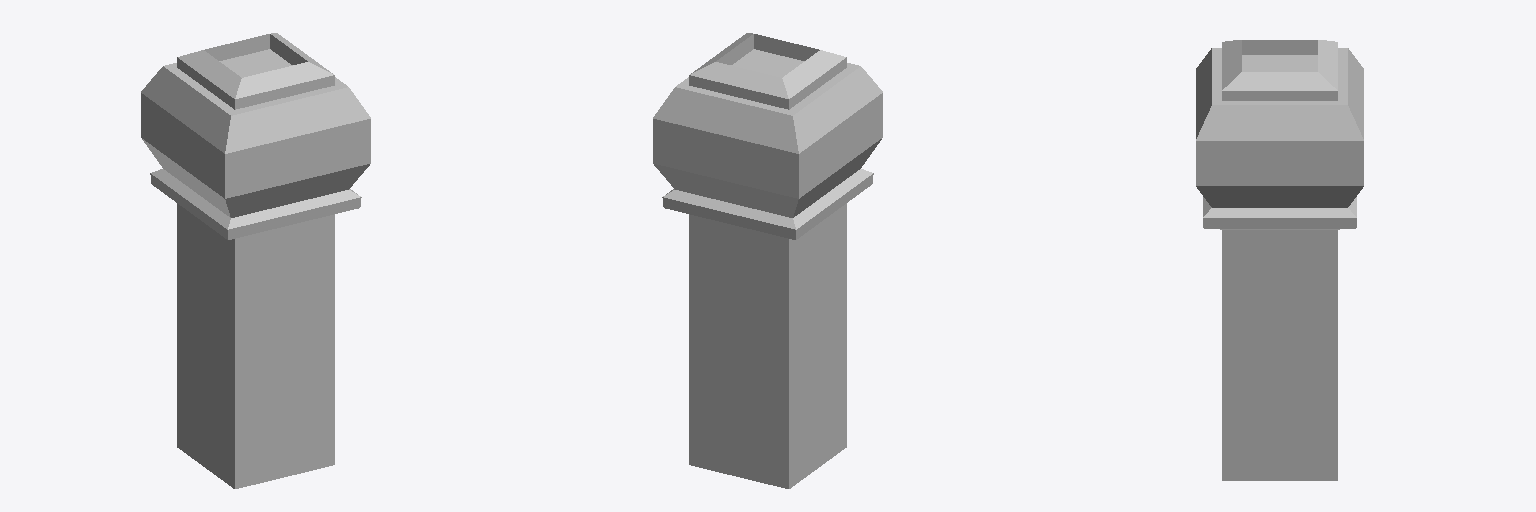
Rendered from Light Holder Shit.obj.
3 views of the same model, side by side, from view 1: azimuth 30°, elevation 25°; view 2: azimuth 150°, elevation 25°; view 3: azimuth 270°, elevation 25° (orthographic).
Visible parts, largest first — view 1: pCube1; view 2: pCube1; view 3: pCube1.
Part boxes in pixels (x1,y1,x2,y2): pCube1: (141, 33, 370, 488); pCube1: (653, 33, 882, 488); pCube1: (1196, 40, 1363, 480).
Bounding box in the file's own units: 6.05 × 15.81 × 6.05.